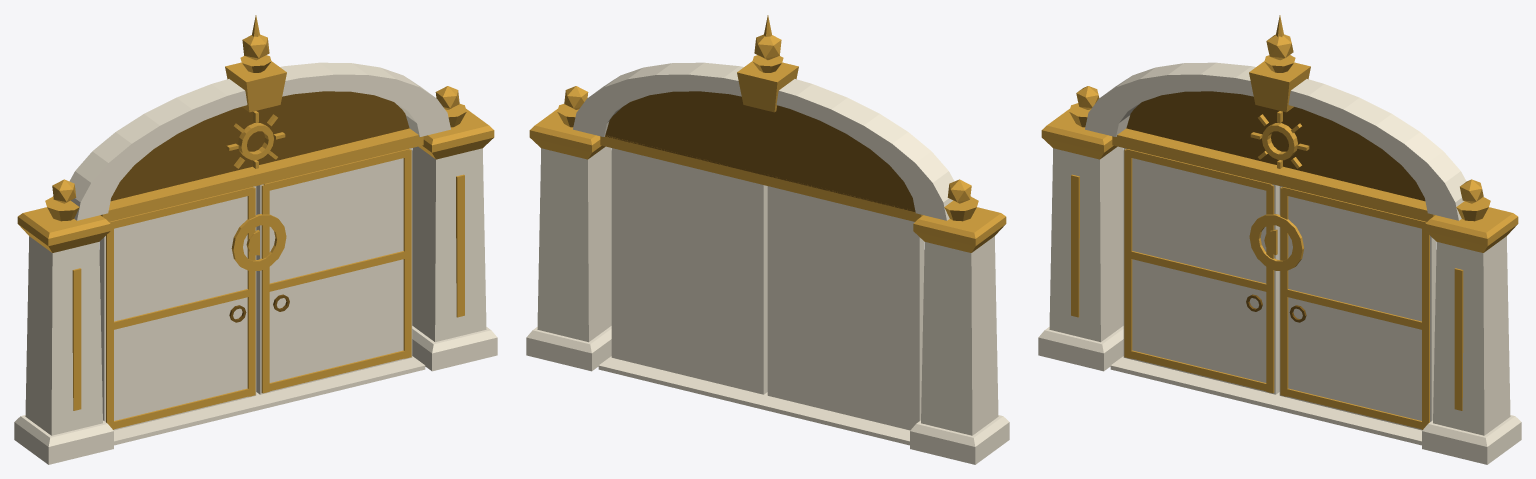
The model's file is exit_gate.glb.
The picture shows the model from 3 angles, left to right: view 1: azimuth 30°, elevation 25°; view 2: azimuth 150°, elevation 25°; view 3: azimuth 330°, elevation 25°; orthographic projection.
Parts seen in each view (by area): view 1: exit_gate_frame, exit_gate_door_right, exit_gate_door_left; view 2: exit_gate_frame, exit_gate_door_right, exit_gate_door_left; view 3: exit_gate_frame, exit_gate_door_left, exit_gate_door_right.
Part boxes in pixels (x1=…): exit_gate_frame: x1=14, y1=15, x2=497, y2=464; exit_gate_door_right: x1=256, y1=148, x2=412, y2=394; exit_gate_door_left: x1=99, y1=186, x2=259, y2=430; exit_gate_frame: x1=526, y1=15, x2=1009, y2=464; exit_gate_door_right: x1=611, y1=148, x2=767, y2=394; exit_gate_door_left: x1=767, y1=186, x2=924, y2=430; exit_gate_frame: x1=1038, y1=15, x2=1521, y2=464; exit_gate_door_left: x1=1123, y1=148, x2=1279, y2=394; exit_gate_door_right: x1=1276, y1=186, x2=1436, y2=430.
Size of the model in its own units: 2.88 by 2.35 by 0.38.
